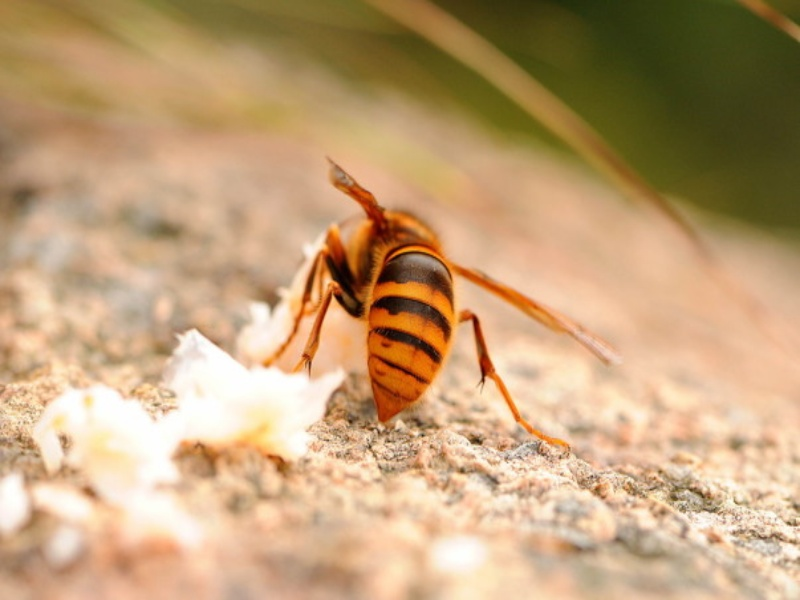asian_giant_hornet: (284, 146, 621, 454)
